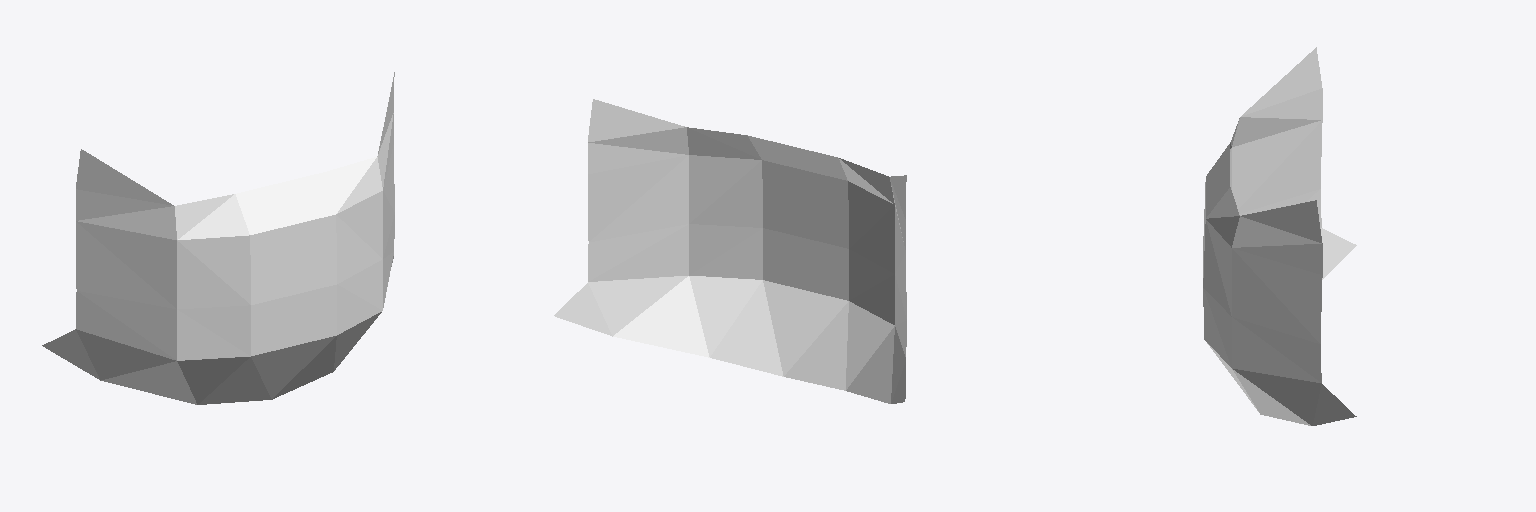
The model's file is SpaceRanger_Helmet_Visor.obj.
The picture shows the model from 3 angles: view 1: azimuth 30°, elevation 25°; view 2: azimuth 150°, elevation 25°; view 3: azimuth 270°, elevation 25°; orthographic projection.
Parts seen in each view (by area): view 1: SpaceRanger_Helmet_Visor; view 2: SpaceRanger_Helmet_Visor; view 3: SpaceRanger_Helmet_Visor.
Part boxes in pixels (x1,y1,x2,y2): SpaceRanger_Helmet_Visor: (42,72,394,404); SpaceRanger_Helmet_Visor: (554,99,906,403); SpaceRanger_Helmet_Visor: (1203,47,1356,425).
Size of the model in its own units: 0.9094 by 0.654 by 0.3442.